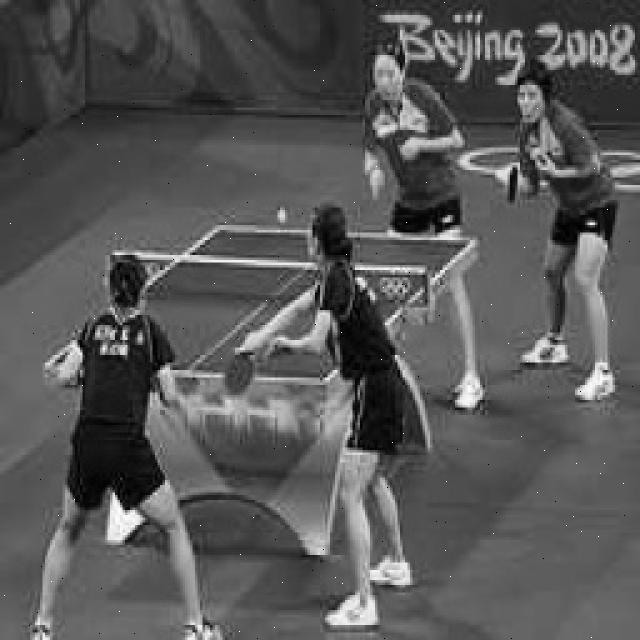ping-pong-ball: (278, 204, 288, 227)
